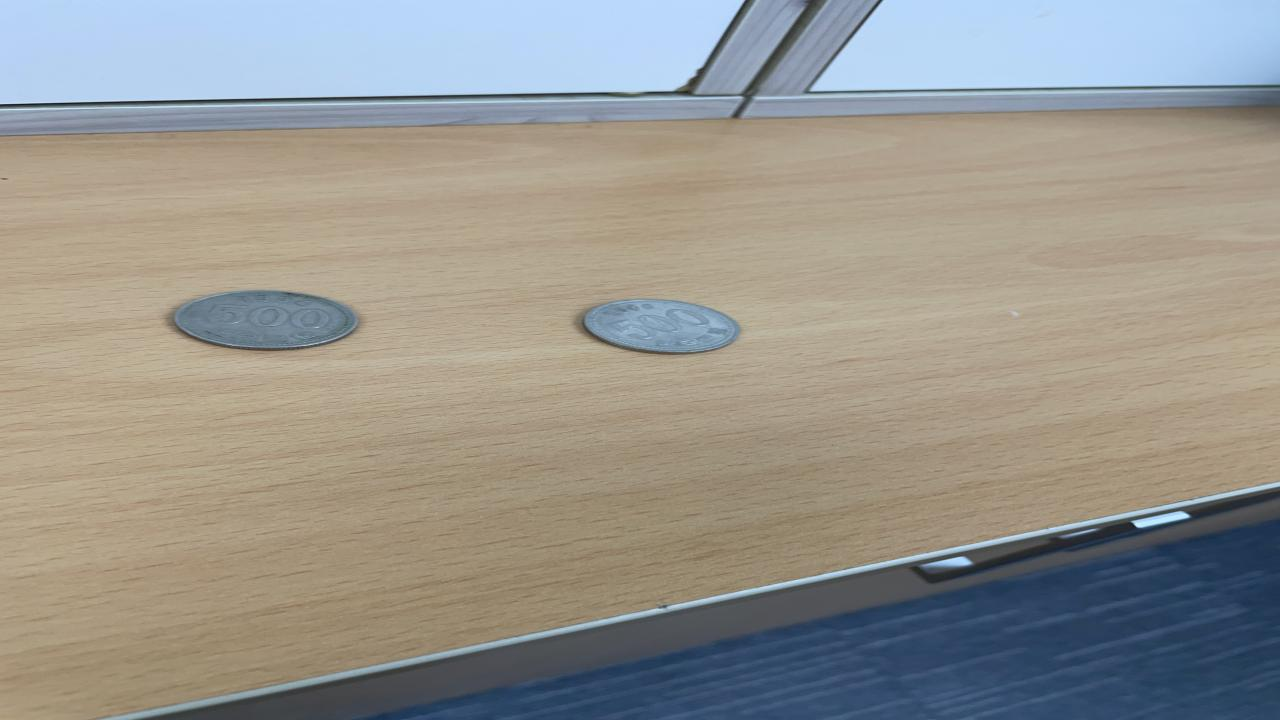coin: (170, 288, 363, 352), (580, 298, 744, 357)
